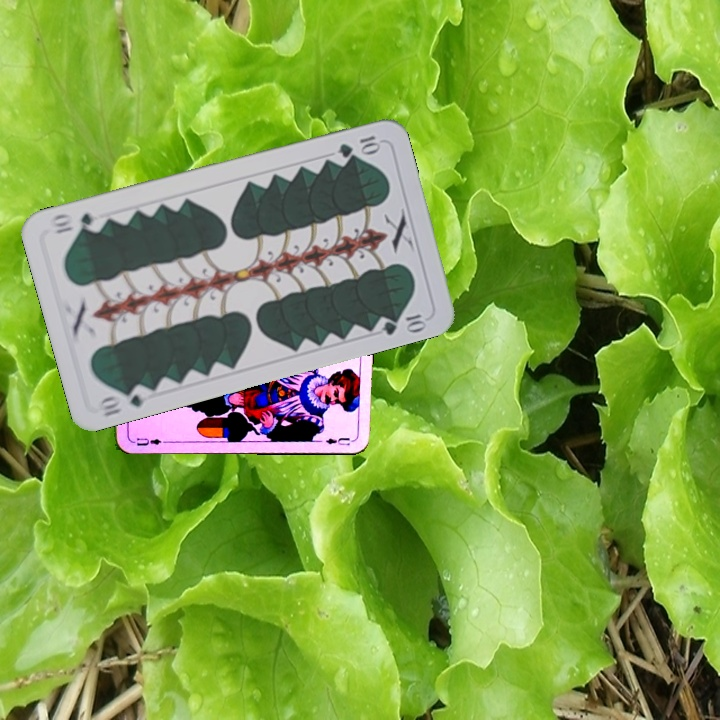EU: (133, 434, 168, 448)
G10: (94, 381, 153, 419), (334, 131, 383, 160)
